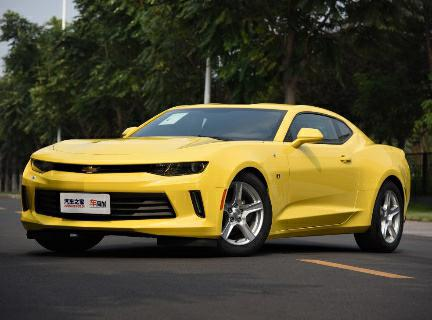雪佛兰-科迈罗: (17, 97, 417, 258)
